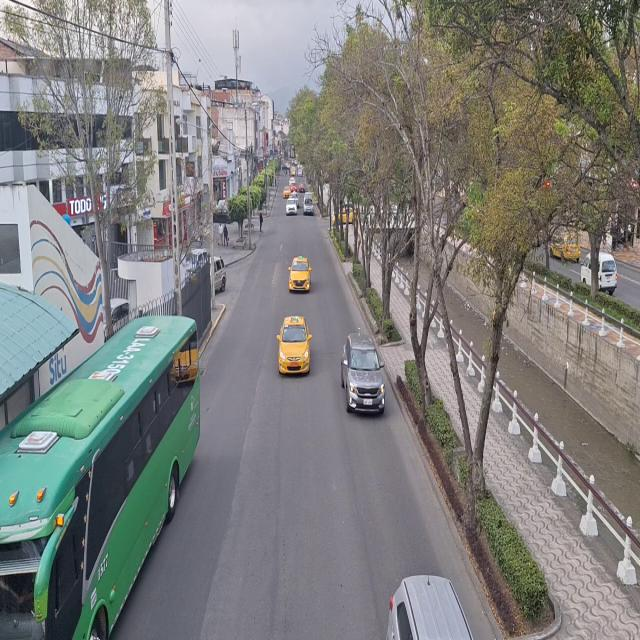BUS: (4, 320, 196, 640)
SED: (278, 320, 309, 374)
SUV: (342, 336, 386, 415)
